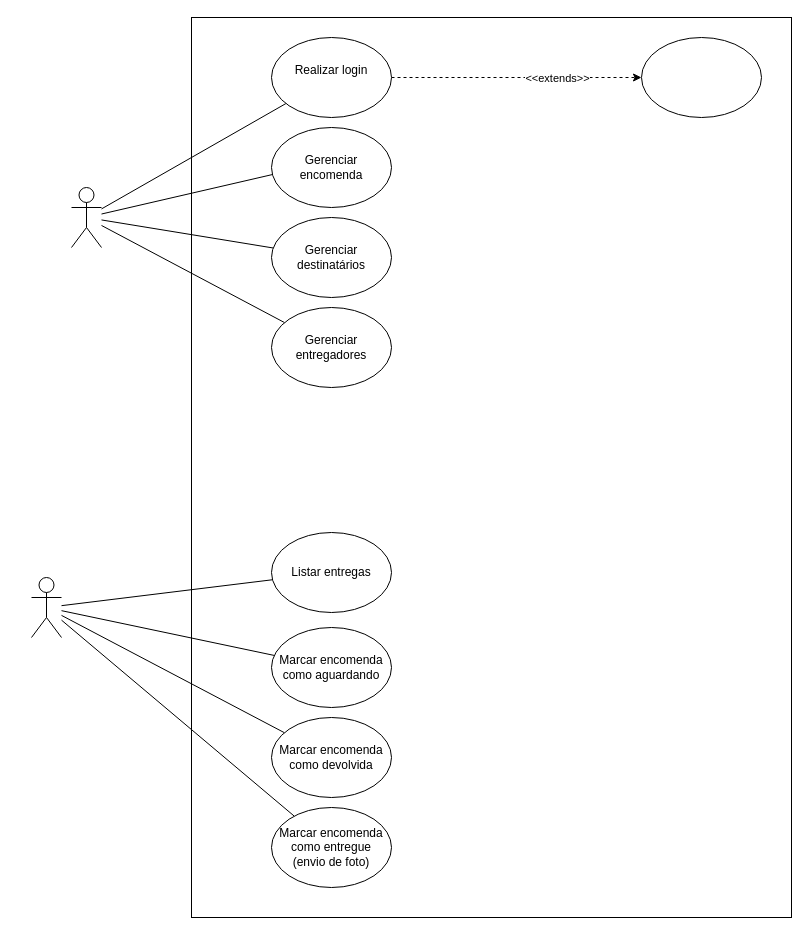
This 809x935 diagram has some shape labels left out. Here are the shapes that lost their labels. From the top down, the centre of each, then its label:
At point (701, 77): "Alterar senha".
At point (86, 217): "Administrador".
At point (46, 607): "Entregador".
